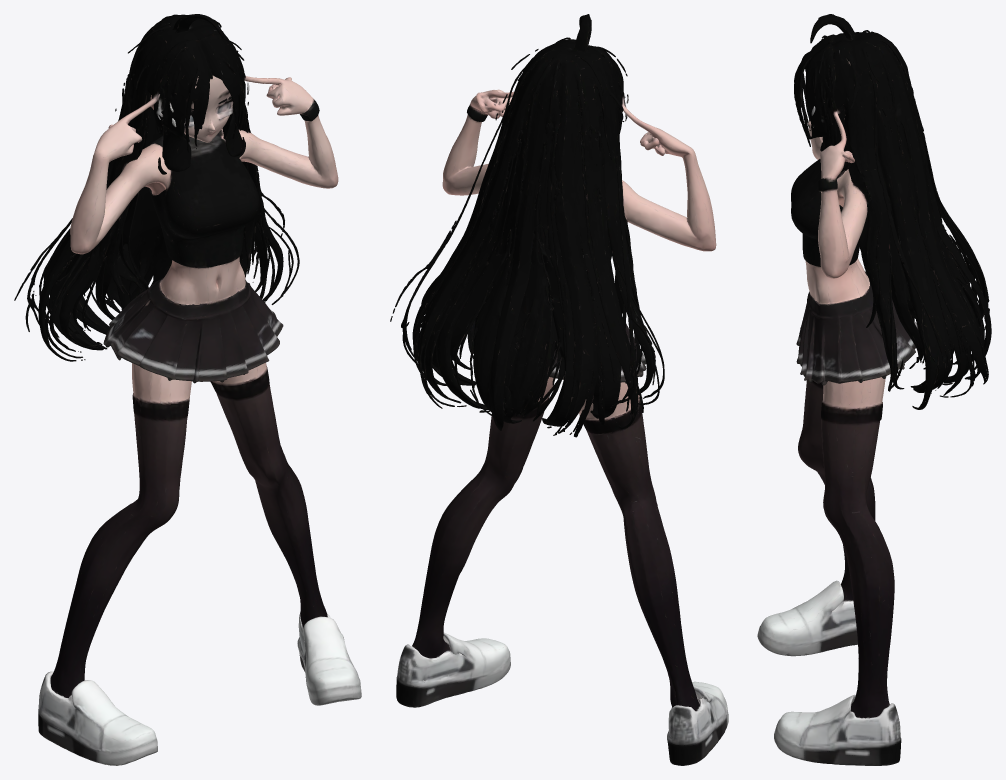
Rendered from sample_2026-11-01T031555.934.glb.
3 views of the same model, side by side, from view 1: azimuth 30°, elevation 25°; view 2: azimuth 150°, elevation 25°; view 3: azimuth 270°, elevation 25° (orthographic). The views are drawn at different scales.
Parts seen in each view (by area): view 1: world; view 2: world; view 3: world.
Boxes of the visible parts, bbox=[...] form: world: bbox=[14, 14, 361, 765]; world: bbox=[390, 14, 728, 765]; world: bbox=[757, 14, 991, 765].
Bounding box in the file's own units: 0.4416 × 1 × 0.3129.
Materials: 1 (1 with a texture image).
